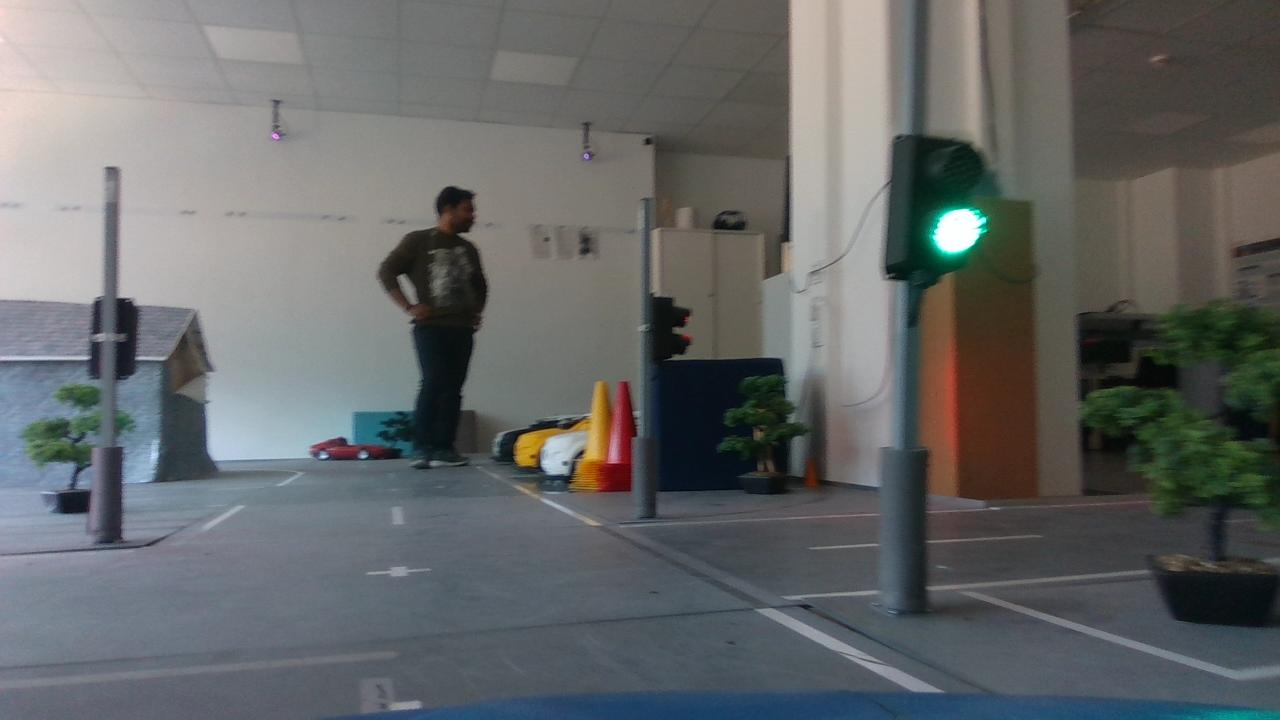traffic_light_green: (876, 123, 993, 292)
